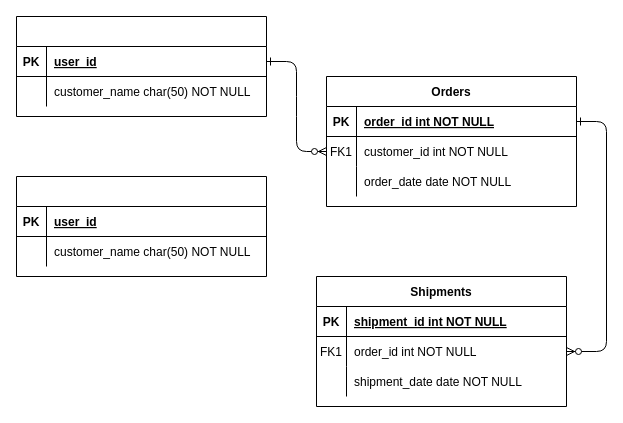
Image size: 623x423. Some labels were removed from this diagram. The shapes that lost their labels are listed below. From the top down, each one's box as (x1, y1, x2, y2) in pixels, then its label:
(16, 16, 266, 116): Users
(16, 176, 266, 276): Quizzes
